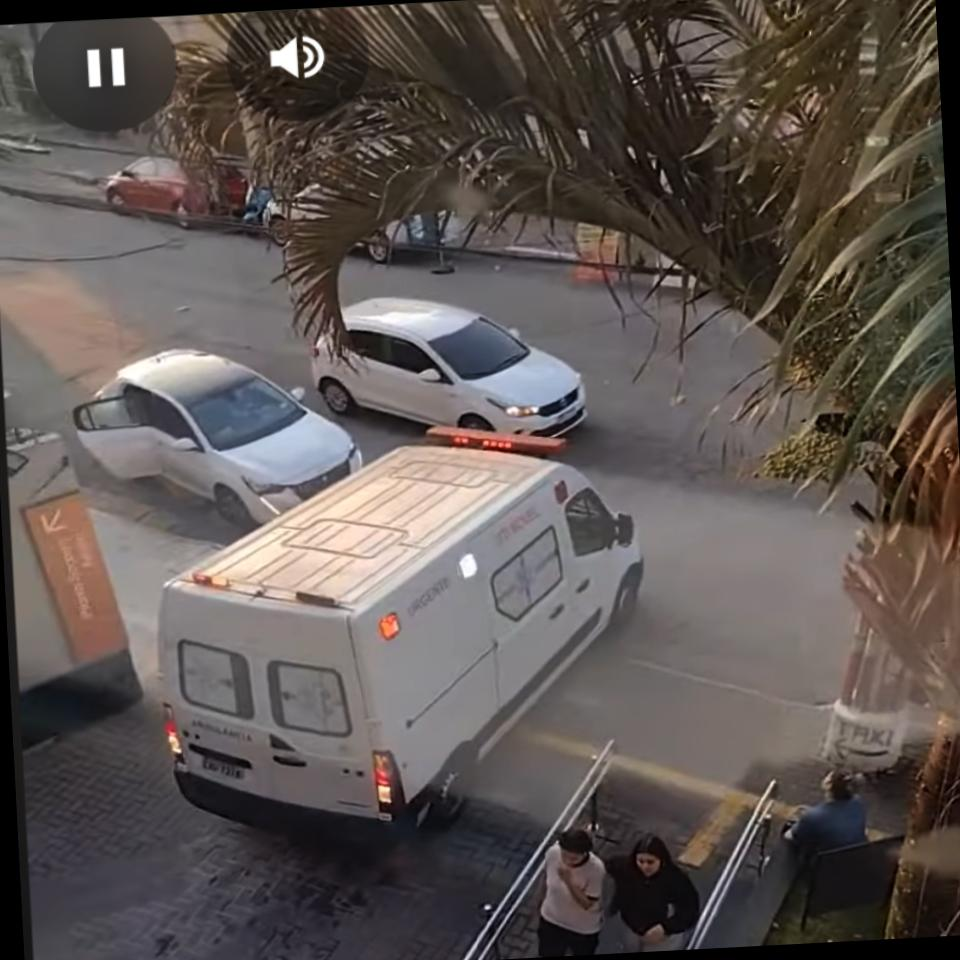bombeiro: (146, 414, 664, 862)
